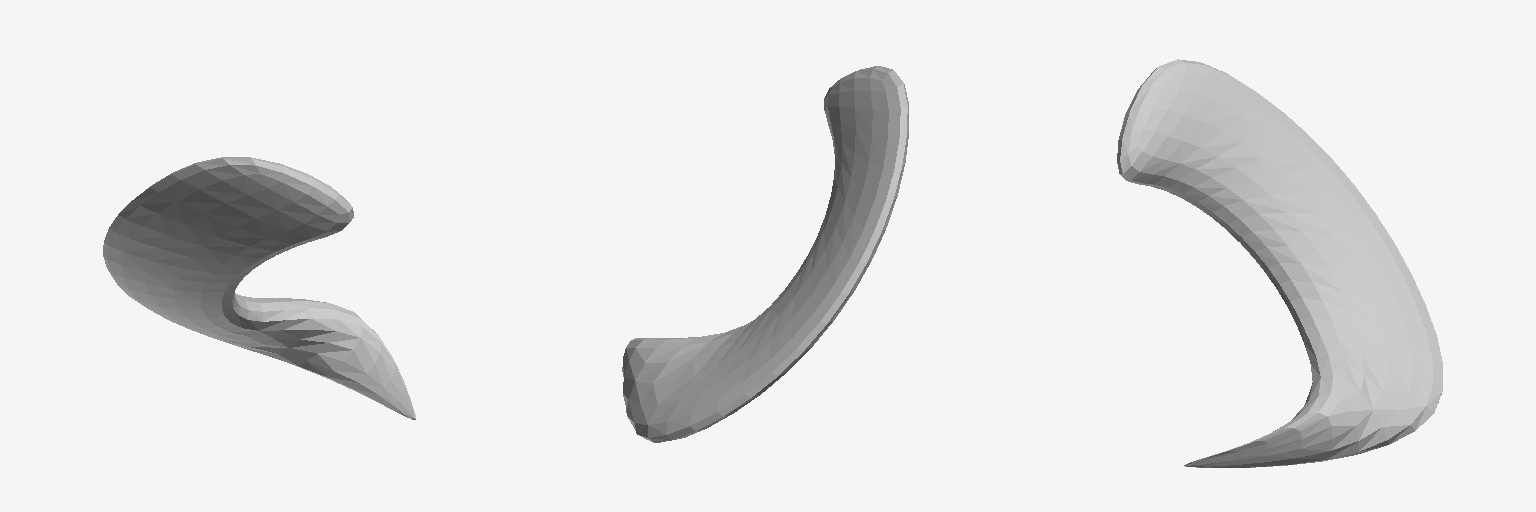
Rendered from ponetail_test.obj.
3 renders of one model, left to right at view 1: azimuth 30°, elevation 25°; view 2: azimuth 150°, elevation 25°; view 3: azimuth 270°, elevation 25°, orthographic.
Parts seen in each view (by area): view 1: Cube; view 2: Cube; view 3: Cube.
Boxes of the visible parts, x1,y1,x2,y2 form: Cube: [103, 157, 415, 419]; Cube: [622, 66, 908, 442]; Cube: [1117, 59, 1442, 467].
Bounding box in the file's own units: 22.54 × 27 × 25.34.